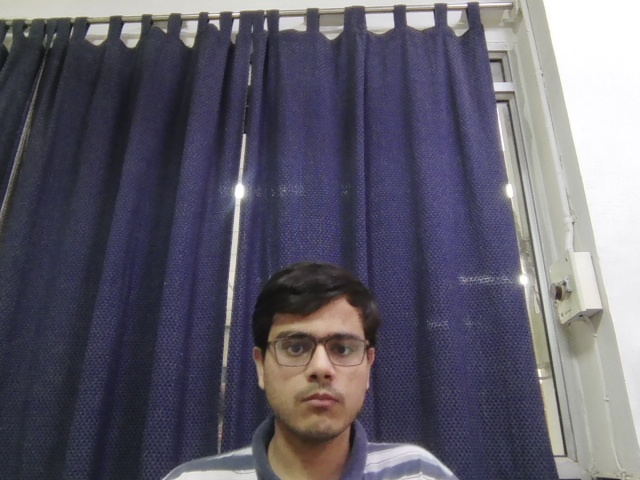face: (251, 266, 381, 440)
